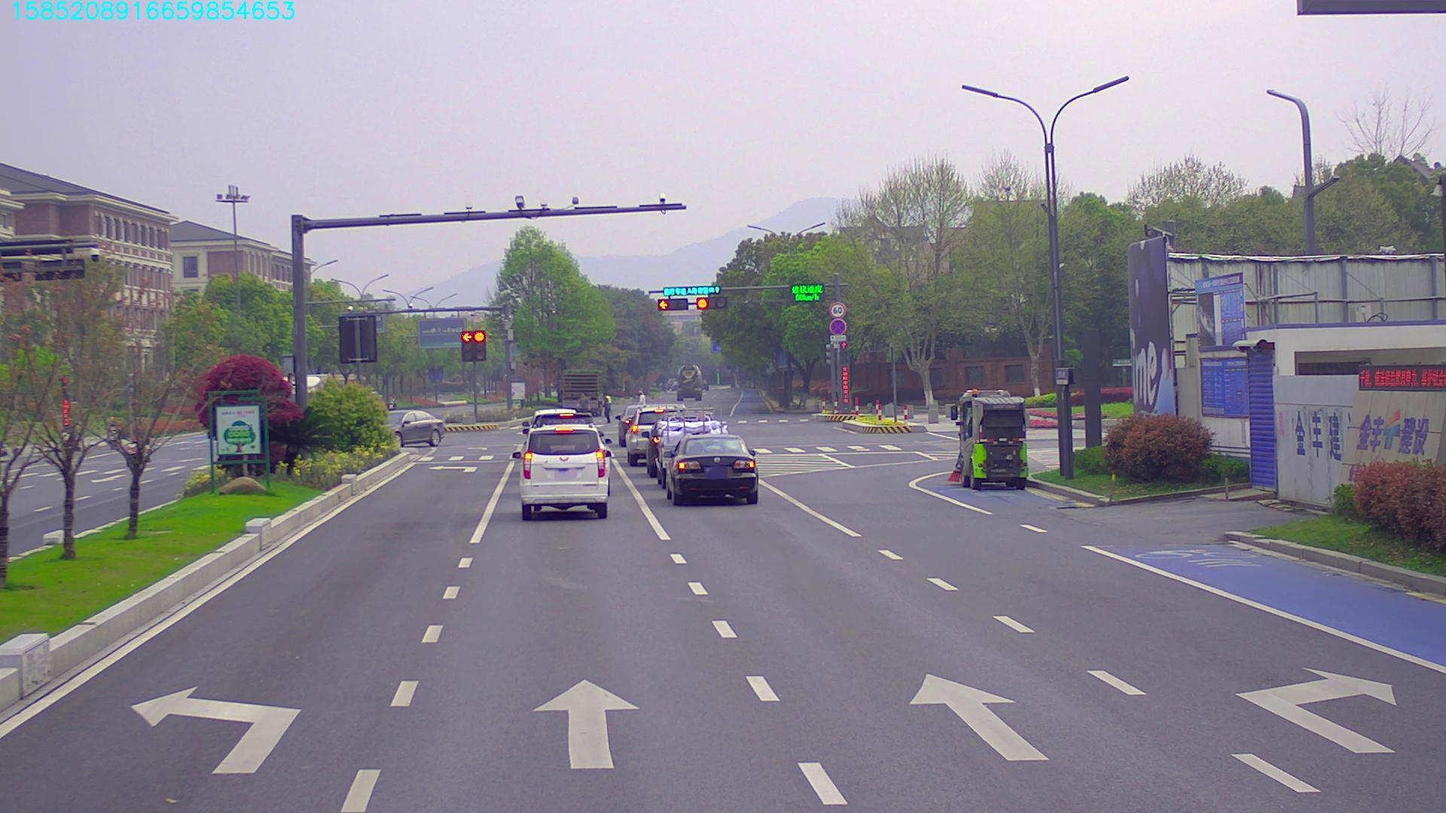red: (657, 297, 687, 309), (695, 297, 719, 309)
wait_on: (662, 286, 719, 297)
